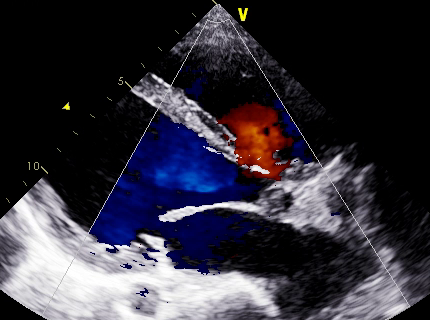MR: (131, 198, 191, 259)
